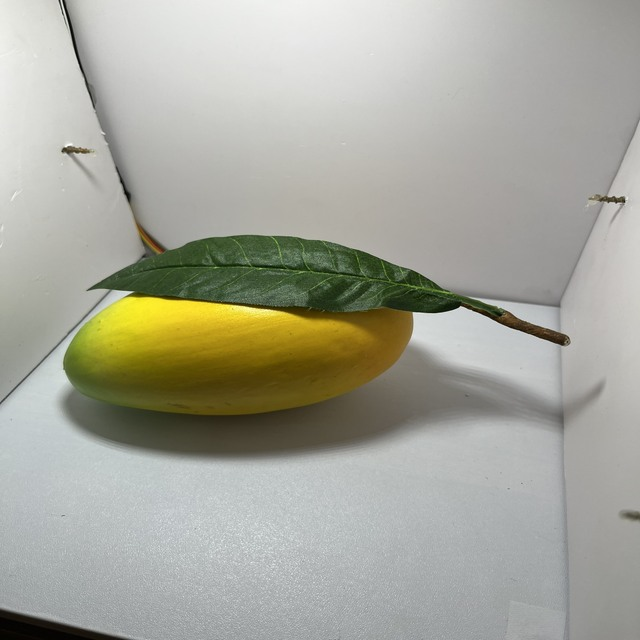Xoai: (58, 231, 427, 421)
